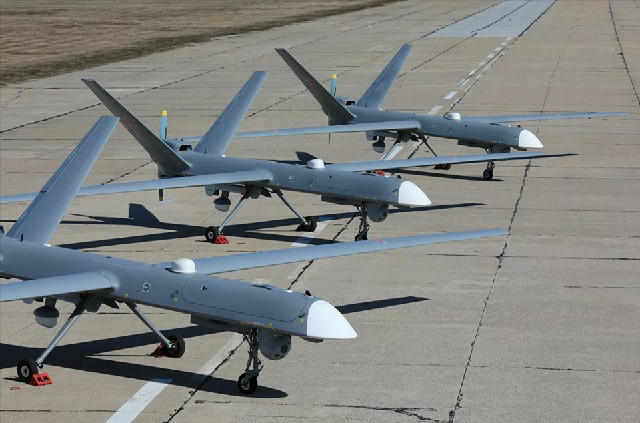maybay_khongnguoilai: (7, 118, 359, 380), (25, 74, 565, 231), (142, 30, 626, 165)
